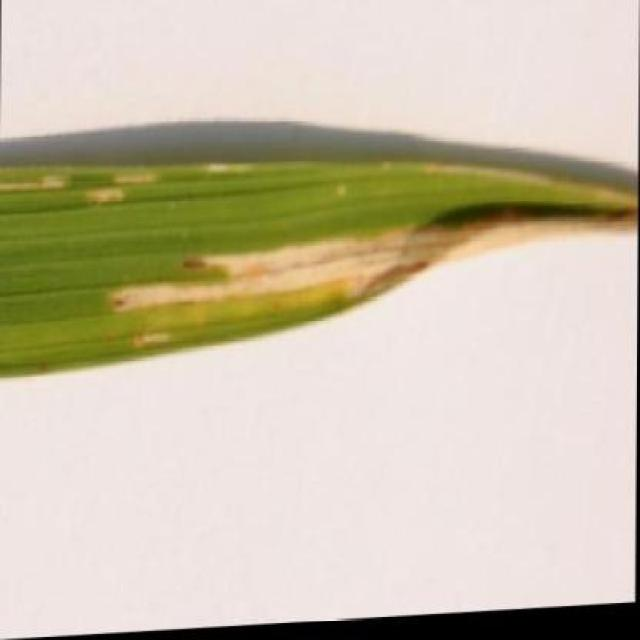Brown_Spot: (0, 135, 638, 384)
